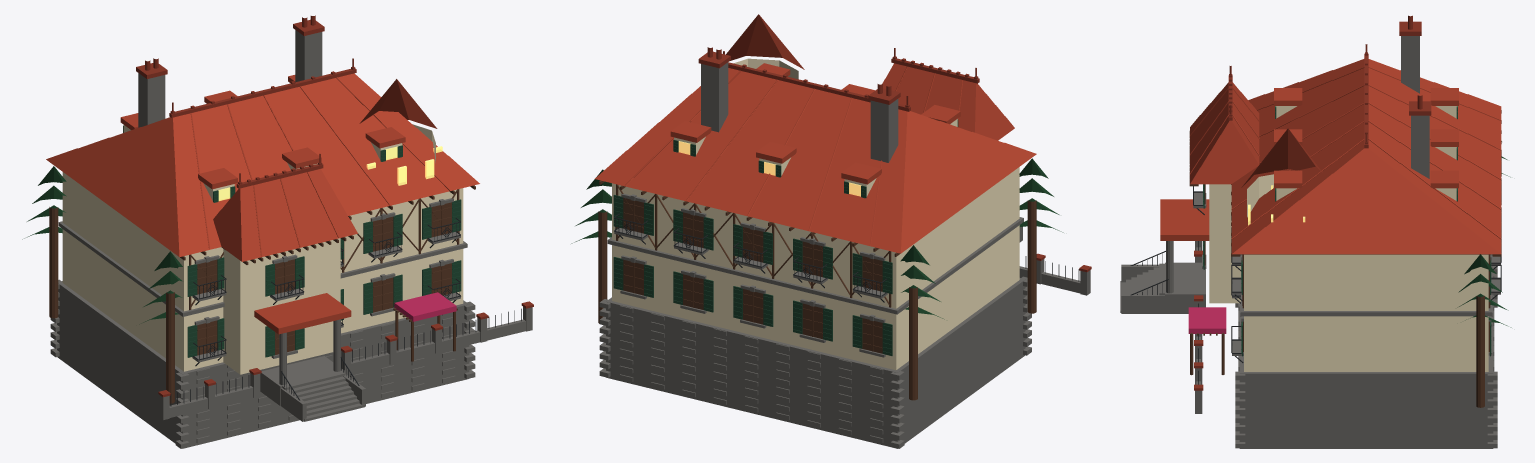
The model's file is fv_cd_08_nha_khach_cong_doan_phuong_tim_villa.glb.
3 renders of one model, left to right at view 1: azimuth 30°, elevation 25°; view 2: azimuth 150°, elevation 25°; view 3: azimuth 270°, elevation 25°, orthographic.
Visible parts, largest first — view 1: marseille_corrugated_roof_tiles, granite_foundation_and_stairs, stucco_facade_and_dormers, colombage_timber_and_eaves, pine_green_louvered_shutters, ridge_cresting_and_chimneys, wrought_iron_balconies_3d, pine_trees_and_garden_hedges, bougainvillea_pergola_clusters, warm_night_windows_ffb86c; view 2: marseille_corrugated_roof_tiles, granite_foundation_and_stairs, stucco_facade_and_dormers, colombage_timber_and_eaves, pine_green_louvered_shutters, ridge_cresting_and_chimneys, pine_trees_and_garden_hedges, wrought_iron_balconies_3d; view 3: marseille_corrugated_roof_tiles, stucco_facade_and_dormers, granite_foundation_and_stairs, colombage_timber_and_eaves, ridge_cresting_and_chimneys, bougainvillea_pergola_clusters, wrought_iron_balconies_3d, pine_trees_and_garden_hedges, pine_green_louvered_shutters.
Boxes of the visible parts, x1,y1,x2,y2 form: marseille_corrugated_roof_tiles: (46, 73, 479, 334); granite_foundation_and_stairs: (50, 30, 532, 448); stucco_facade_and_dormers: (62, 124, 463, 374); colombage_timber_and_eaves: (49, 185, 475, 403); pine_green_louvered_shutters: (123, 125, 461, 357); ridge_cresting_and_chimneys: (136, 15, 533, 397); wrought_iron_balconies_3d: (170, 218, 521, 406); pine_trees_and_garden_hedges: (22, 166, 182, 324); bougainvillea_pergola_clusters: (394, 292, 456, 321); warm_night_windows_ffb86c: (218, 146, 442, 200); marseille_corrugated_roof_tiles: (595, 14, 1036, 253); granite_foundation_and_stairs: (599, 62, 1090, 448); stucco_facade_and_dormers: (612, 58, 1019, 370); colombage_timber_and_eaves: (598, 180, 1036, 400); pine_green_louvered_shutters: (613, 120, 958, 355); ridge_cresting_and_chimneys: (698, 47, 1091, 272); pine_trees_and_garden_hedges: (571, 158, 1063, 319); wrought_iron_balconies_3d: (614, 213, 1079, 302); marseille_corrugated_roof_tiles: (1160, 59, 1501, 254); stucco_facade_and_dormers: (1209, 106, 1488, 371); granite_foundation_and_stairs: (1120, 36, 1500, 448); colombage_timber_and_eaves: (1189, 110, 1501, 407); ridge_cresting_and_chimneys: (1194, 15, 1431, 390); bougainvillea_pergola_clusters: (1188, 307, 1226, 333); wrought_iron_balconies_3d: (1130, 154, 1501, 384); pine_trees_and_garden_hedges: (1457, 141, 1511, 327); pine_green_louvered_shutters: (1203, 106, 1491, 356).
Size of the model in its own units: 24.93 by 20.03 by 22.91.
